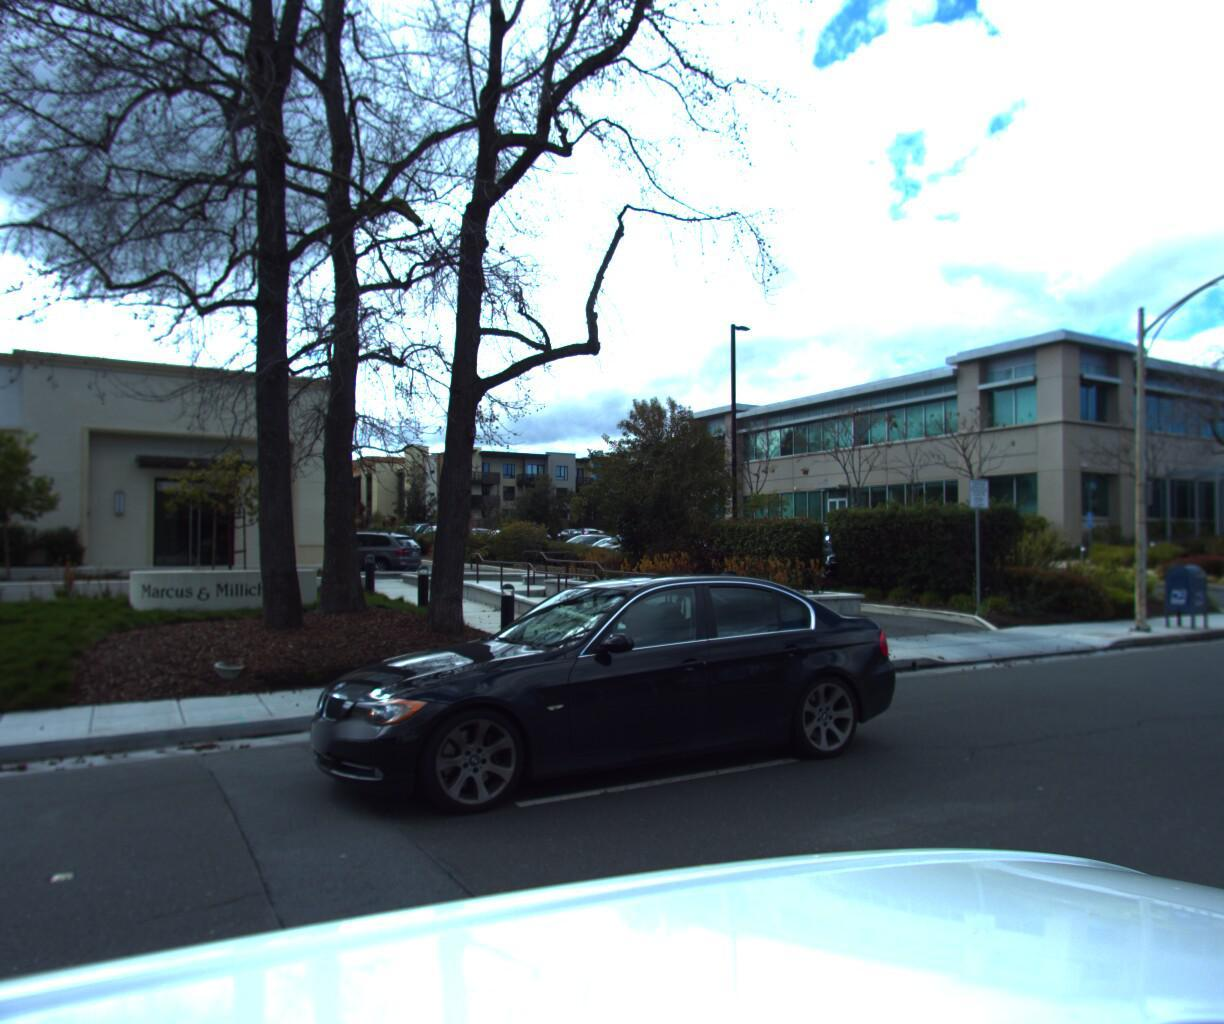car: (287, 570, 906, 839), (813, 538, 966, 594)
